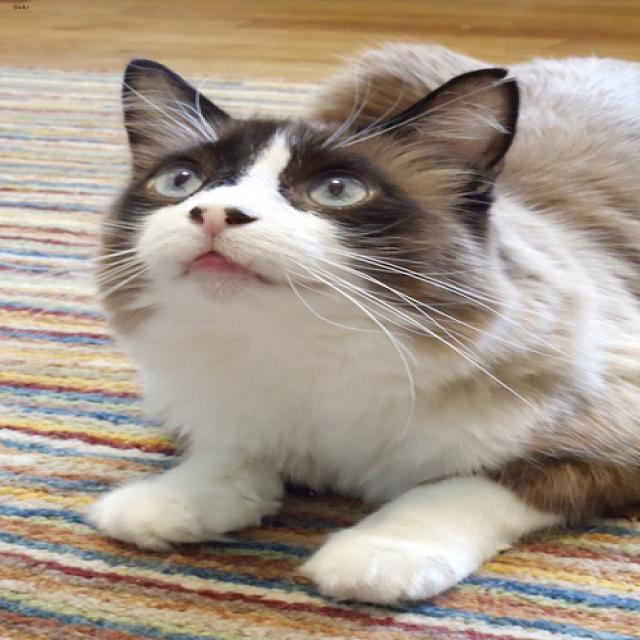Ragdoll: (119, 58, 517, 306)
